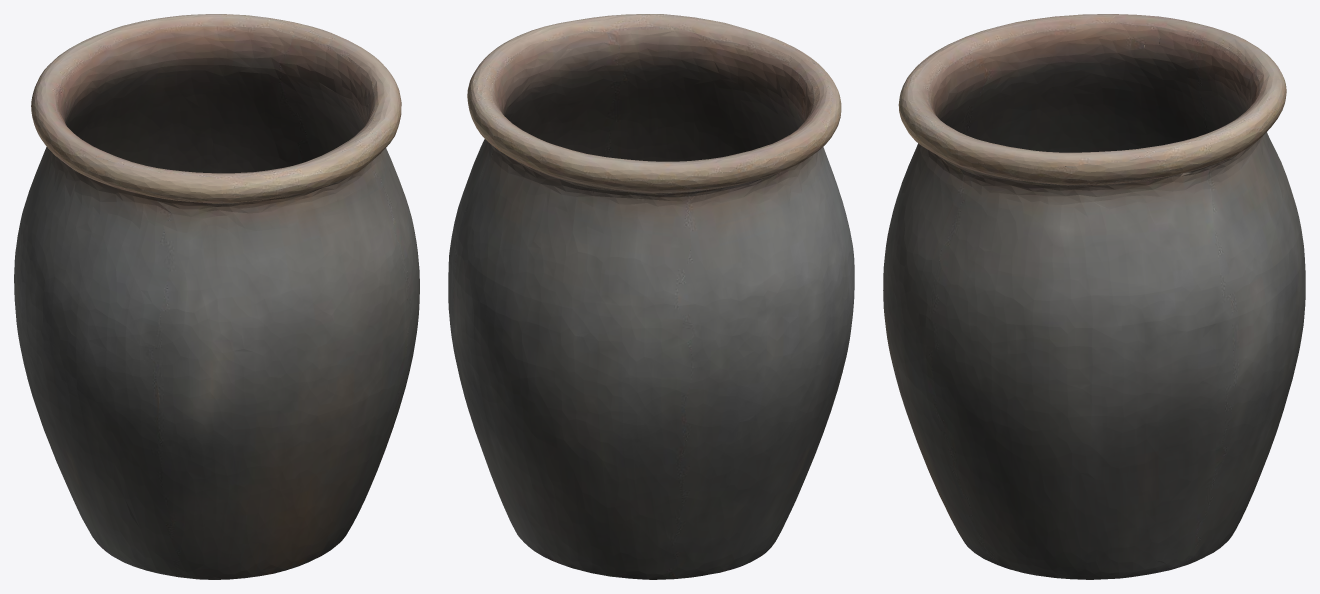
Rendered from large_dark_ceramic_jar_in_background_000.glb.
3 renders of one model, left to right at view 1: azimuth 30°, elevation 25°; view 2: azimuth 150°, elevation 25°; view 3: azimuth 270°, elevation 25°, orthographic. The views are drawn at different scales.
Parts seen in each view (by area): view 1: phase2_final_large_dark_ceramic_jar_in_background_000.obj; view 2: phase2_final_large_dark_ceramic_jar_in_background_000.obj; view 3: phase2_final_large_dark_ceramic_jar_in_background_000.obj.
Part boxes in pixels (x1,y1,x2,y2): phase2_final_large_dark_ceramic_jar_in_background_000.obj: (14,14,419,579); phase2_final_large_dark_ceramic_jar_in_background_000.obj: (448,14,854,579); phase2_final_large_dark_ceramic_jar_in_background_000.obj: (883,14,1305,579).
Size of the model in its own units: 0.2622 by 0.3179 by 0.2693.
Materials: 1 (1 with a texture image).
